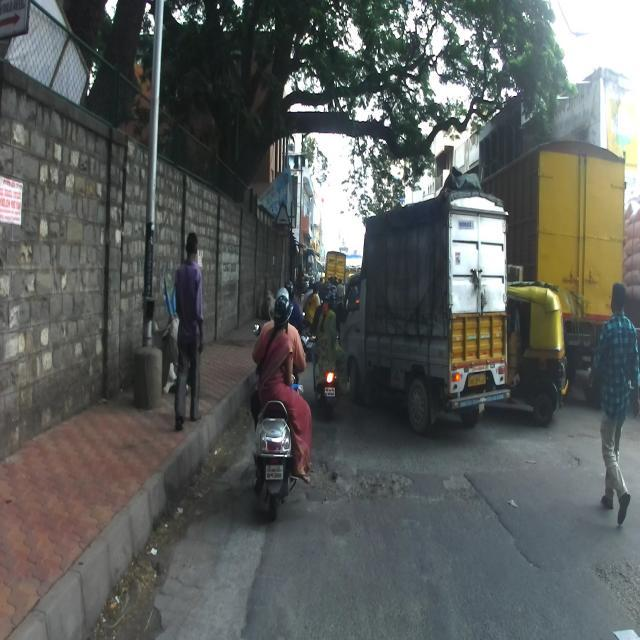pothole: (308, 458, 412, 501), (444, 469, 472, 488)
